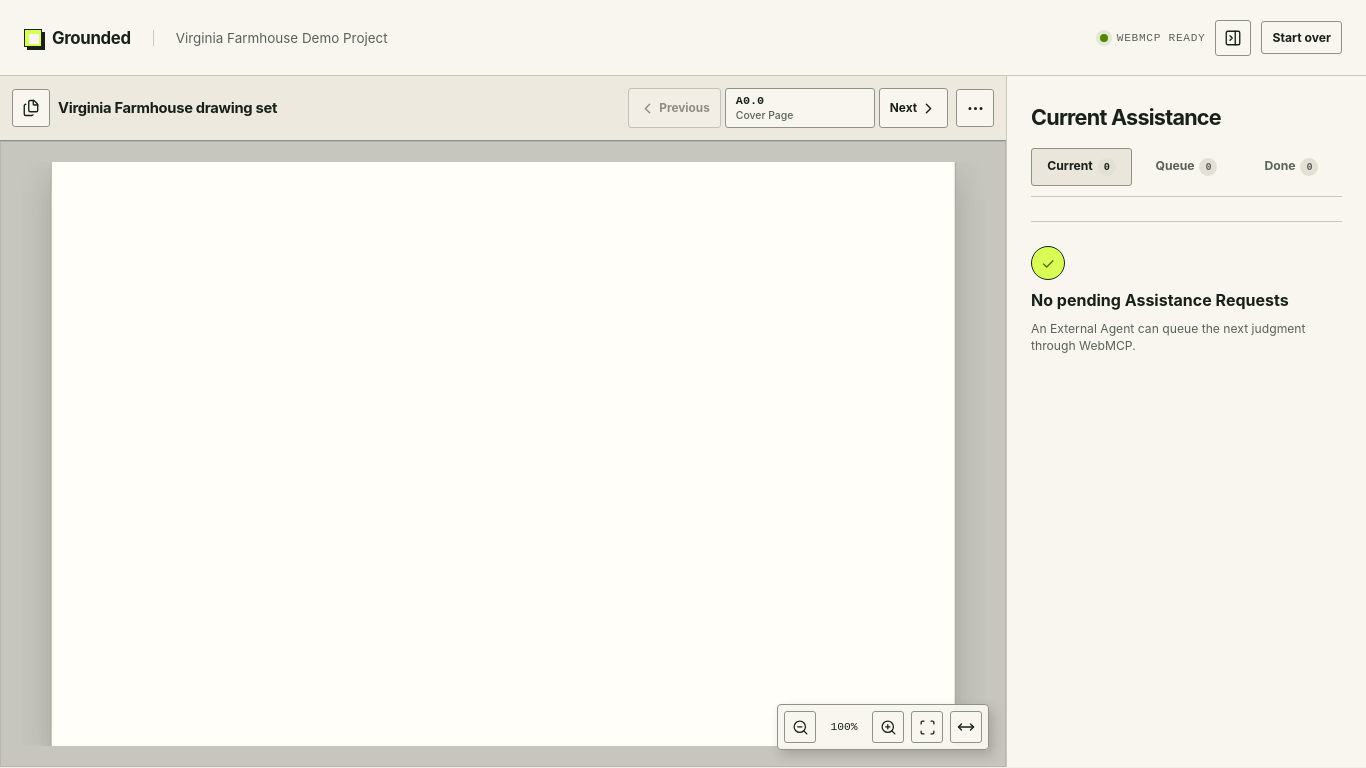
Test case: an Assistance Request leaves Document Browsing in place until a target page is opened
The width and height of the screenshot is (1366, 768).
Expected: the text "WebMCP ready" is shown, [1117,32,1205,44]
Click the button named "Documents". click: (31, 108)
box: [12,89,50,127]
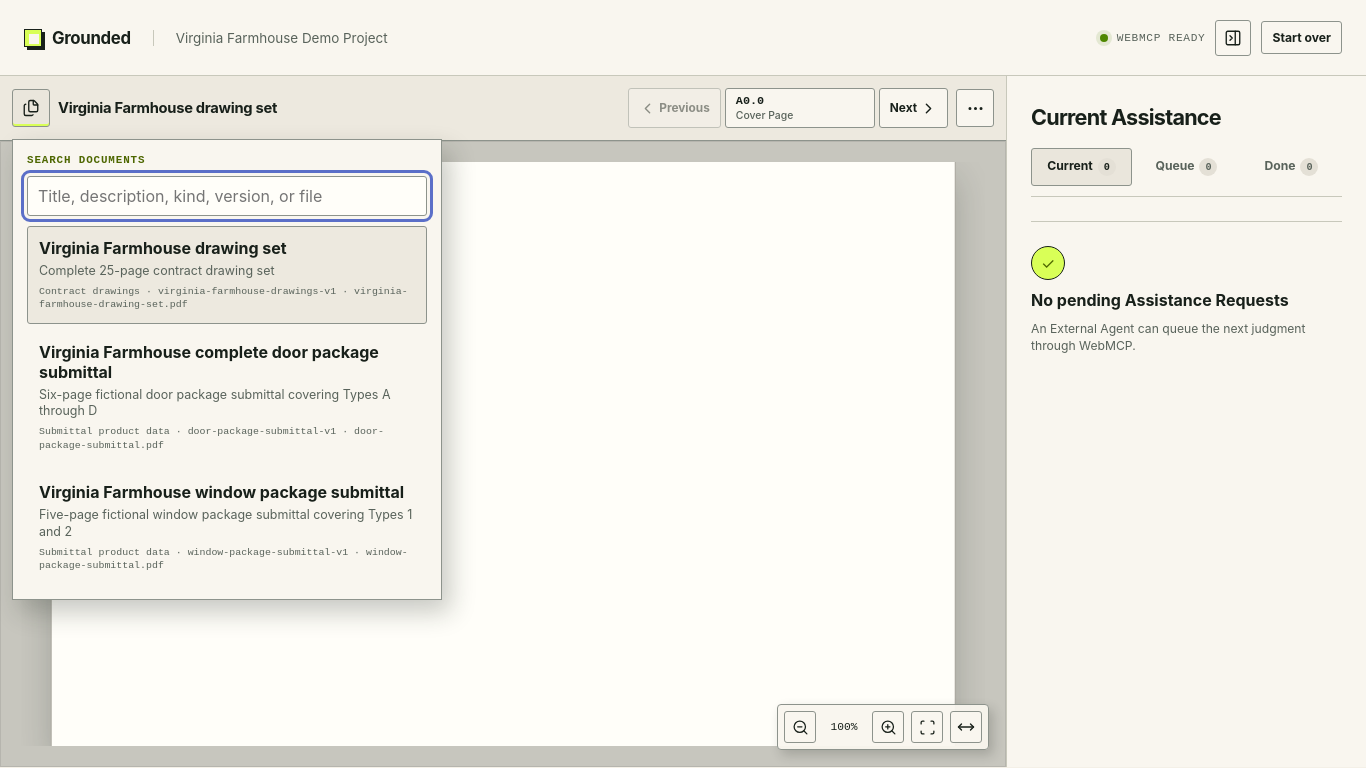
Click the button "Virginia Farmhouse complete door package submittal". click: (227, 397)
box: [27,330,427,464]
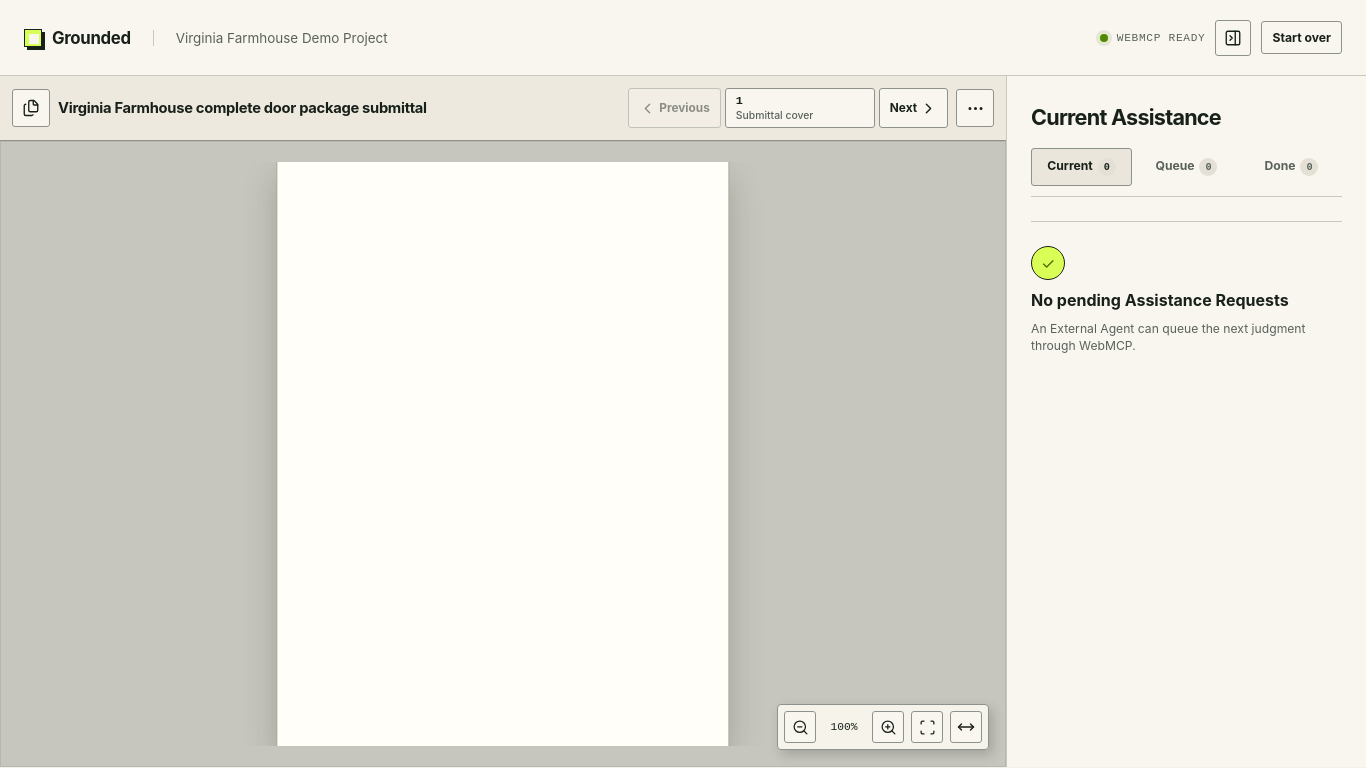
Click the button with aria-label "Current page:". click: (800, 108)
box: [725,88,875,128]
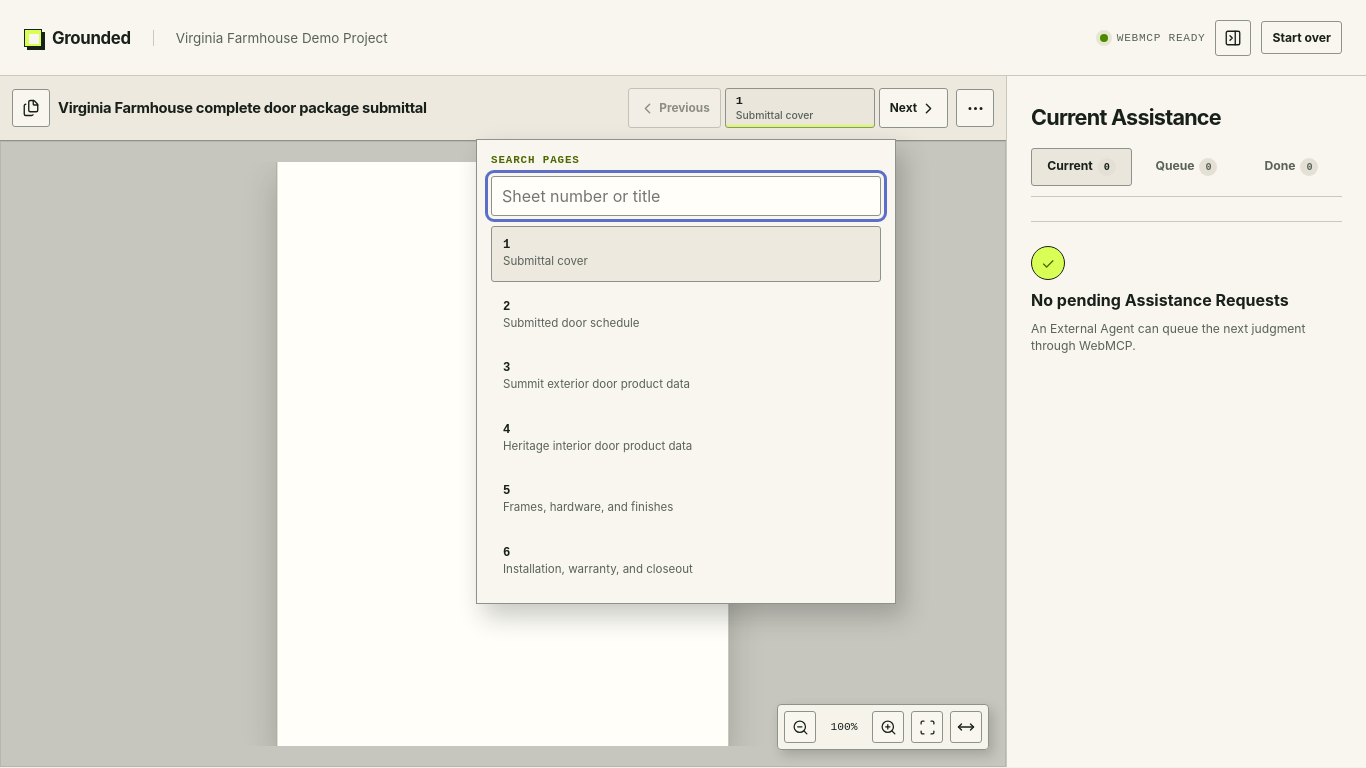
Click the option "4 Heritage interior door product data". click: (686, 438)
box: [491,411,881,466]
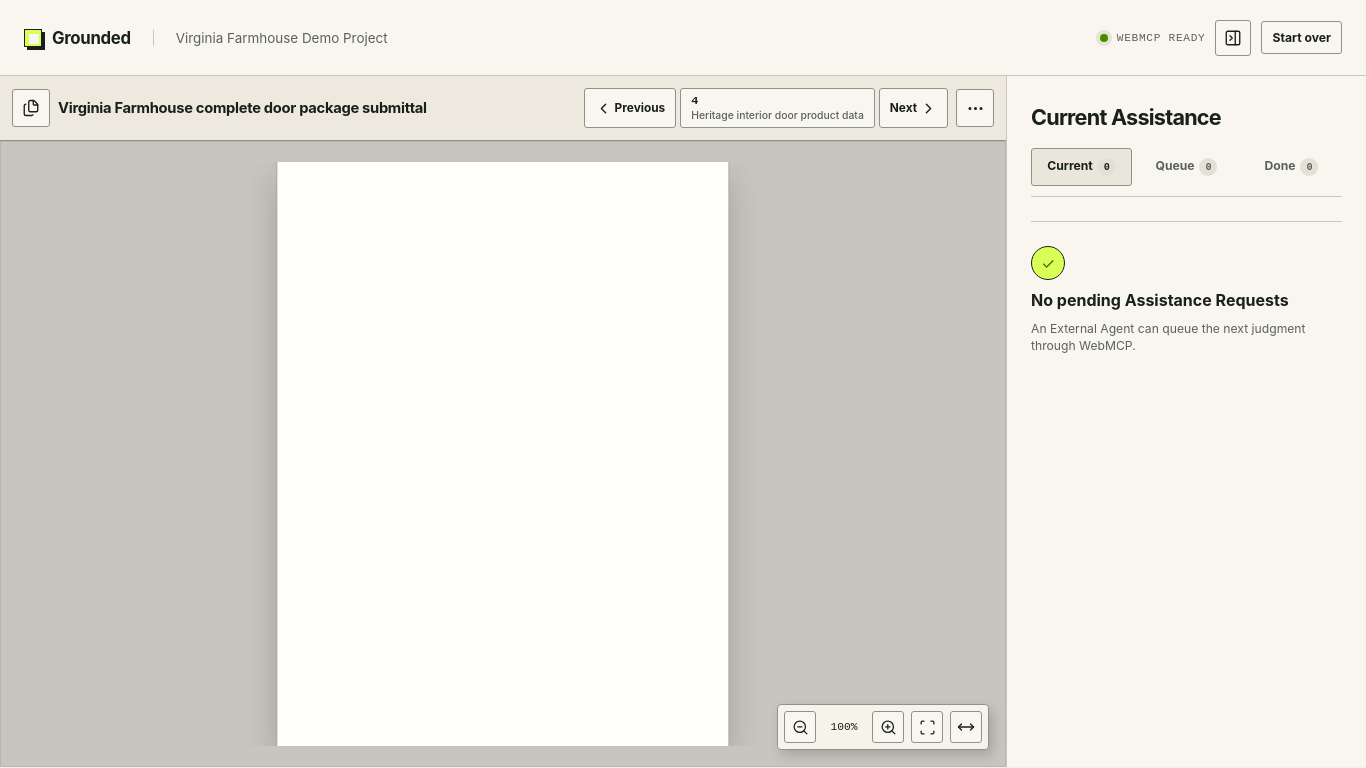
Click the button named "Zoom in". click: (888, 727)
box: [872,711,904,743]
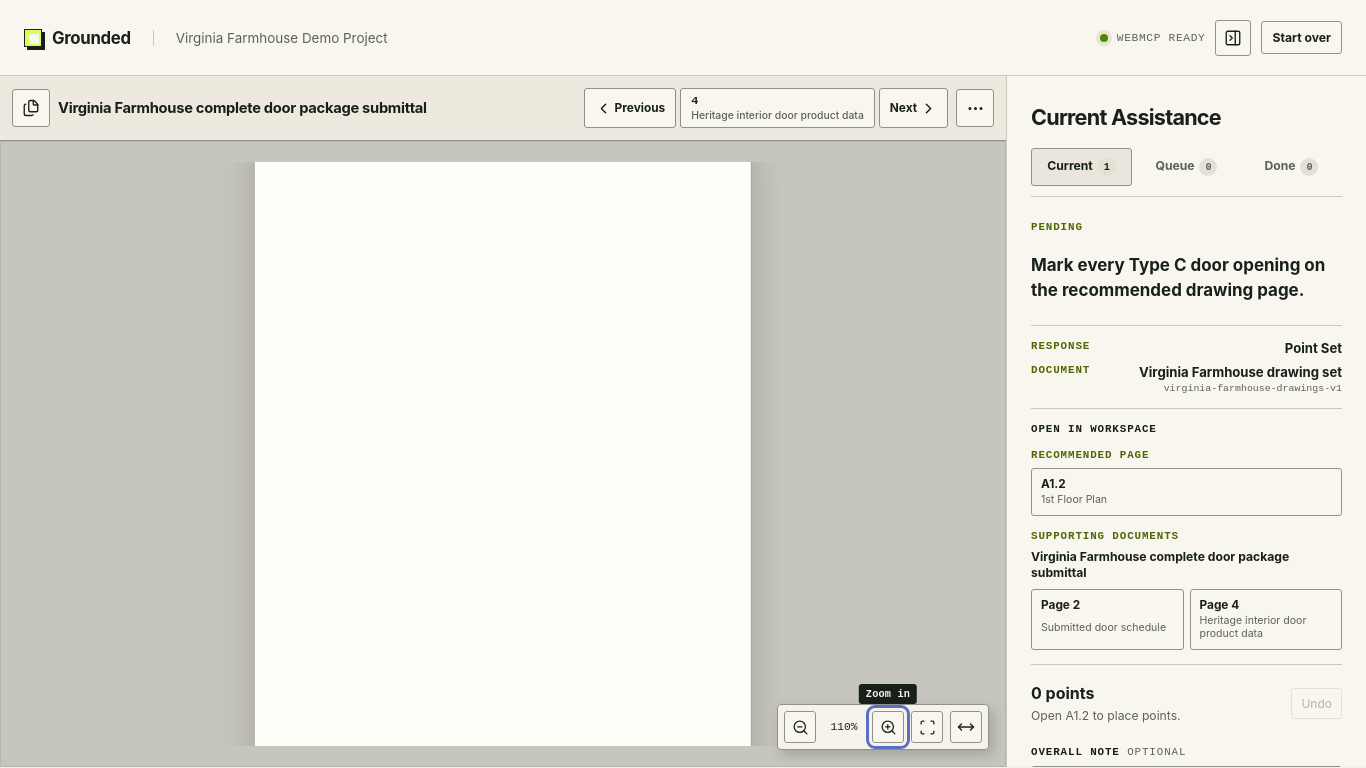
Now the heading "Virginia Farmhouse complete door package submittal" is shown, box [58,99,427,117]
Now the text "Mark every Type C door opening on the recommended drawing page." is shown, box [1031,253,1342,303]
Now the text "110%" is shown, box [831,721,858,733]
Click the button with aria-label "Open A1.2: 1st Floor Plan". click: (1074, 500)
box: [1031,468,1342,516]
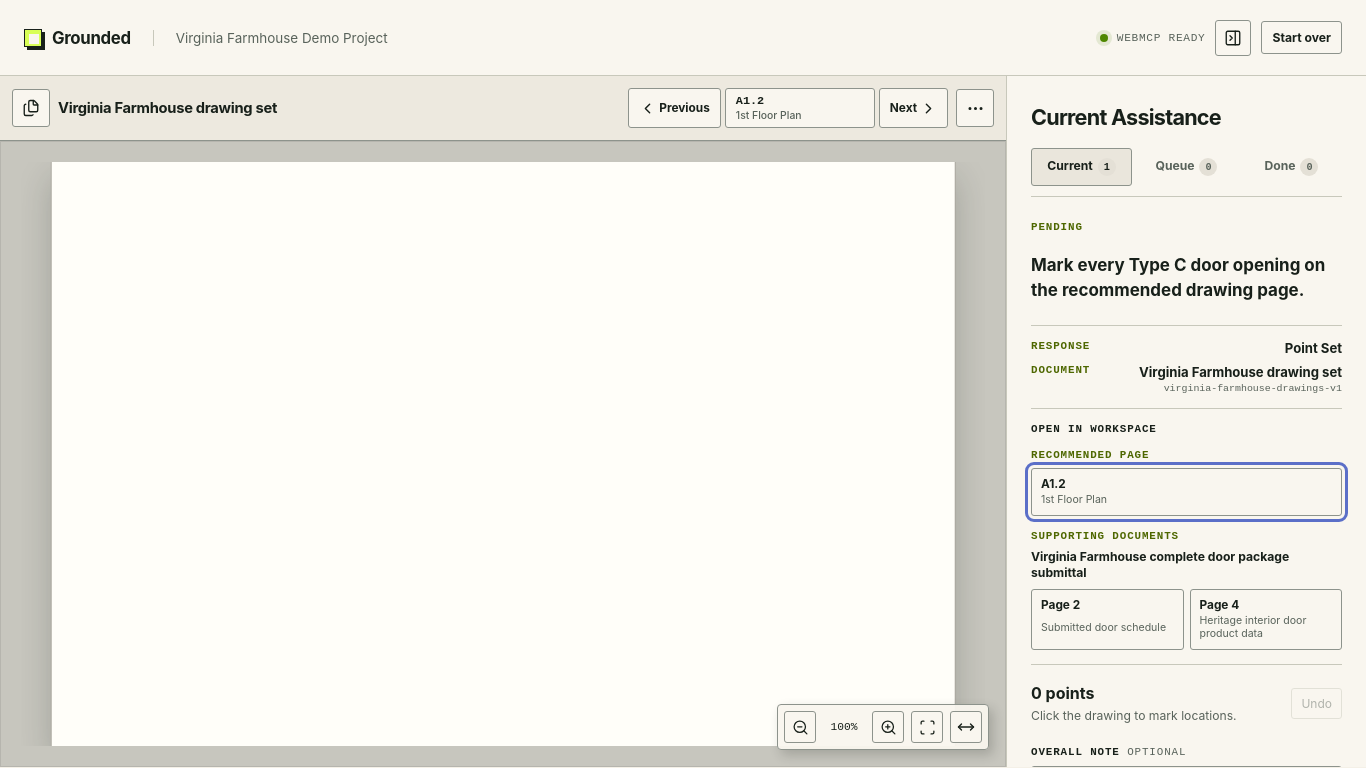
Now the heading "Virginia Farmhouse drawing set" is shown, box [58,99,277,117]
Now the text "100%" is shown, box [831,721,858,733]
